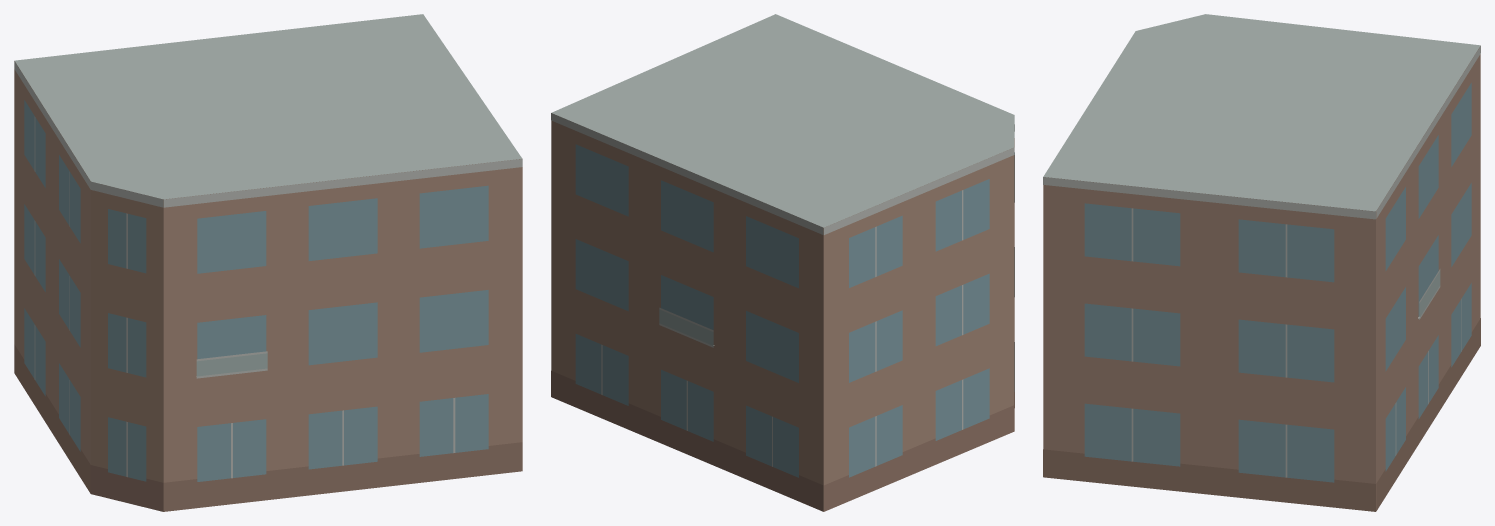
Rendered from survey-upis-32585096.glb.
3 views of the same model, side by side, from view 1: azimuth 30°, elevation 25°; view 2: azimuth 150°, elevation 25°; view 3: azimuth 270°, elevation 25° (orthographic). The views are drawn at different scales.
Parts seen in each view (by area): view 1: survey-upis-32585096.tmp; view 2: survey-upis-32585096.tmp; view 3: survey-upis-32585096.tmp.
Boxes of the visible parts, x1,y1,x2,y2 form: survey-upis-32585096.tmp: [14, 14, 522, 511]; survey-upis-32585096.tmp: [551, 14, 1014, 511]; survey-upis-32585096.tmp: [1043, 14, 1480, 511].
Bounding box in the file's own units: 12.91 × 9.15 × 12.09.
